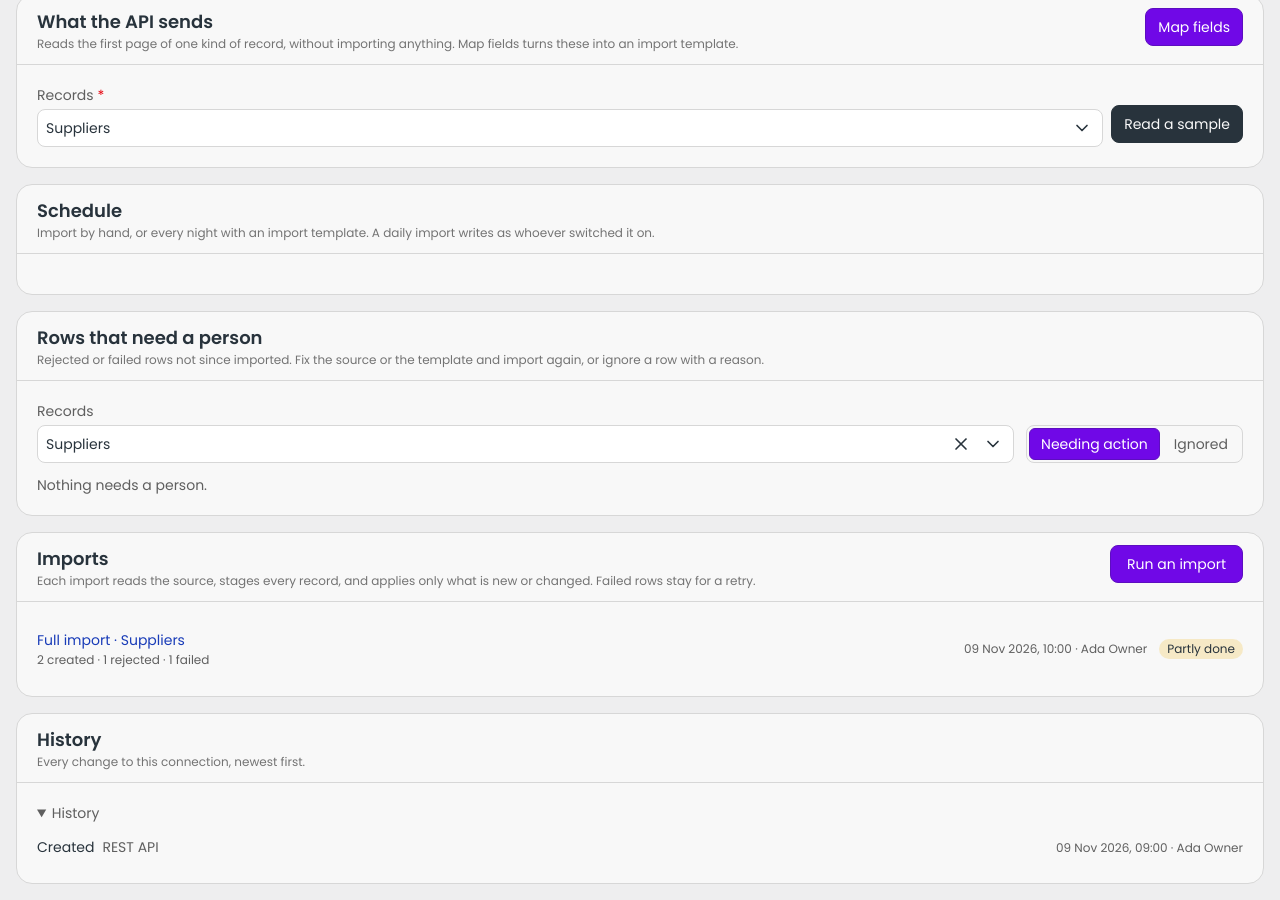
Scenario: Imports › starts a preview and lists the runs with what they did
(page scrolled)
Expected: the text "2 created · 1 rejected · 1 failed" is shown, [37,651,209,668]
Click the button "Run an import" at (1176, 564), box [1110,545,1243,583]
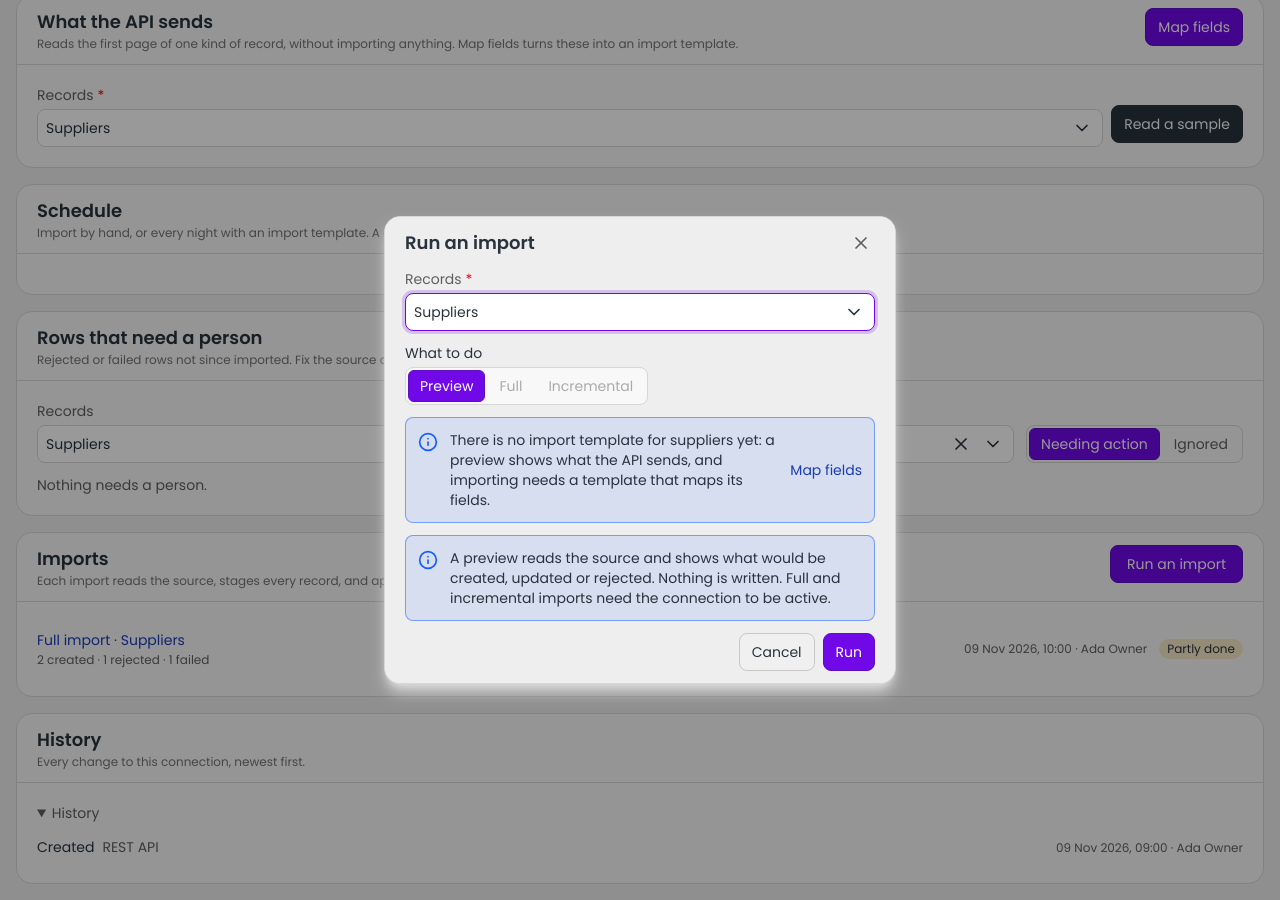
Expected: the button "Full" is disabled, [488,370,534,402]
Click the button "Run" at (849, 652), box [823,633,875,671]
(page scrolled)
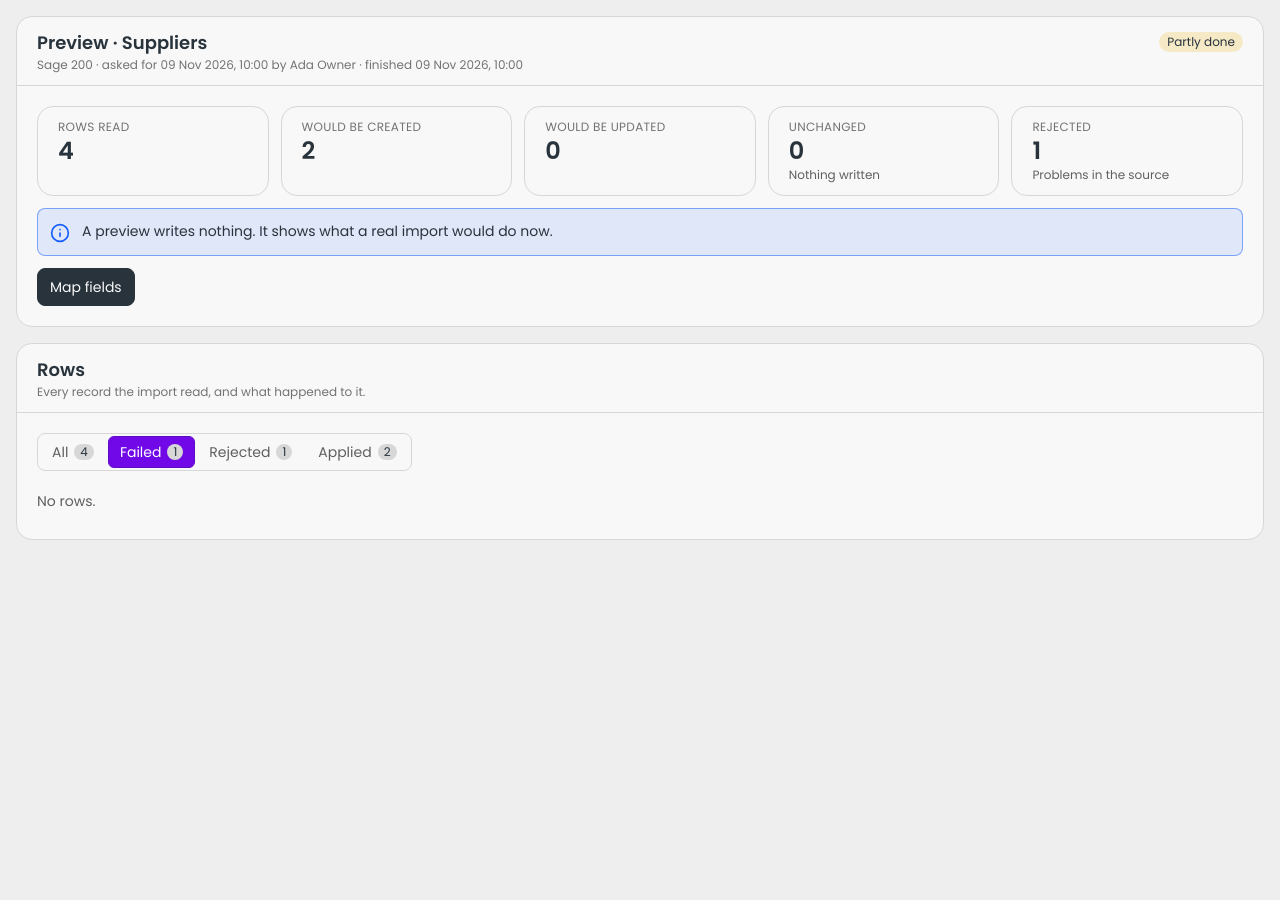
Expected: the text "A preview writes nothing" is shown, [82,221,553,241]
